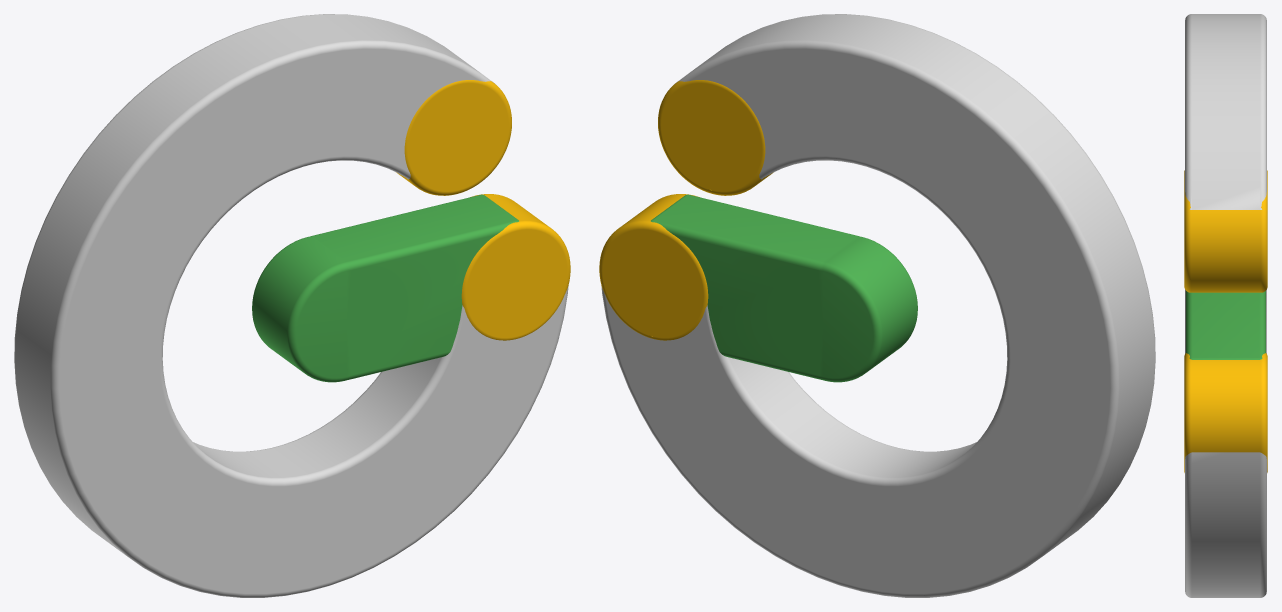
The model's file is GHeroSceneNoBg.glb.
The picture shows the model from 3 angles, left to right: view 1: azimuth 30°, elevation 25°; view 2: azimuth 150°, elevation 25°; view 3: azimuth 270°, elevation 25°; orthographic projection. The views are drawn at different scales.
Parts seen in each view (by area): view 1: Cylinder, Boolean, Cylinder_5, Cylinder_4; view 2: Cylinder, Boolean, Cylinder_5, Cylinder_4; view 3: Cylinder, Cylinder_5, Cylinder_4, Boolean.
Part boxes in pixels (<box>): Cylinder: <box>14,14,568,597</box>; Boolean: <box>252,194,518,382</box>; Cylinder_5: <box>461,194,570,340</box>; Cylinder_4: <box>396,80,511,195</box>; Cylinder: <box>601,14,1155,597</box>; Boolean: <box>651,194,917,382</box>; Cylinder_5: <box>599,194,708,340</box>; Cylinder_4: <box>658,80,773,195</box>; Cylinder: <box>1185,14,1266,597</box>; Cylinder_5: <box>1184,353,1267,472</box>; Cylinder_4: <box>1184,170,1267,292</box>; Boolean: <box>1186,291,1265,359</box>.
Size of the model in its own units: 7 by 7 by 1.
